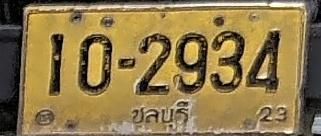0: (78, 33, 112, 93)
1: (50, 33, 64, 95)
2: (136, 33, 170, 94)
3: (210, 30, 244, 91)
4: (246, 30, 280, 92)
9: (176, 32, 208, 94)
CBI: (130, 99, 192, 130)
